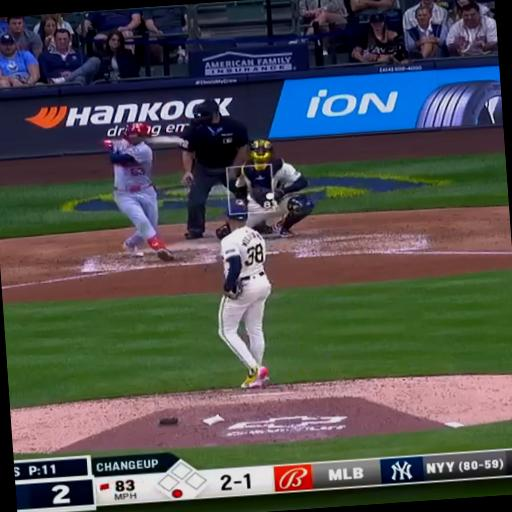bat: (146, 136, 184, 145)
